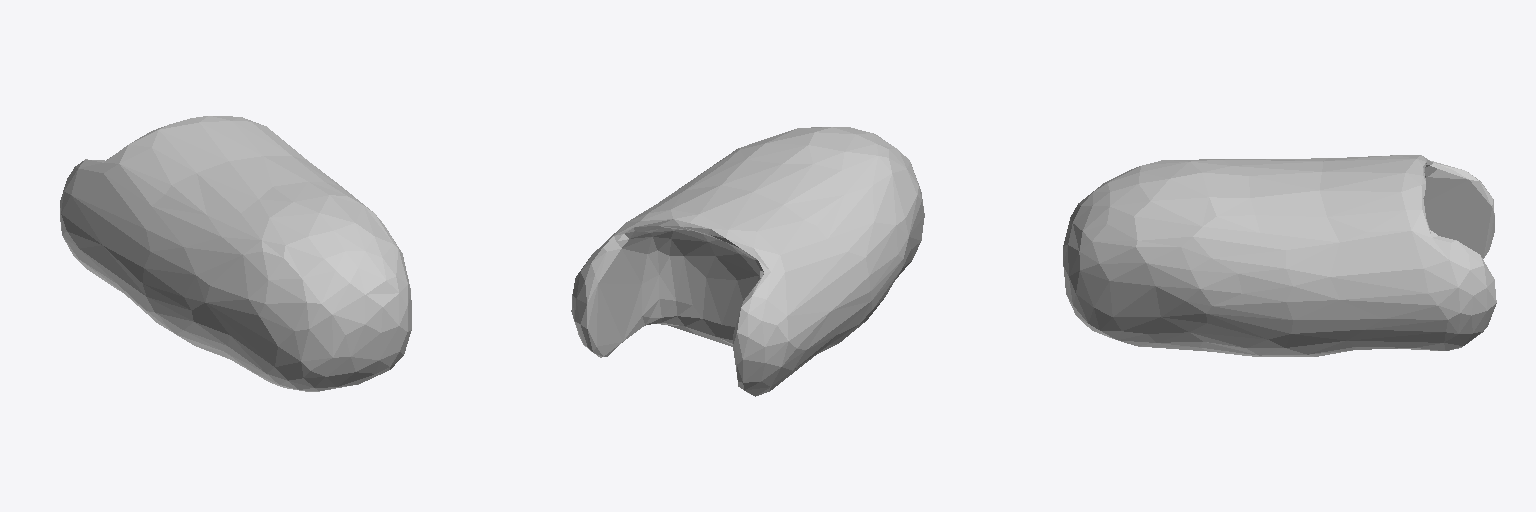
The model's file is seg_M.obj.
The picture shows the model from 3 angles: view 1: azimuth 30°, elevation 25°; view 2: azimuth 150°, elevation 25°; view 3: azimuth 270°, elevation 25°; orthographic projection.
Size of the model in its own units: 18.28 by 13.83 by 31.53.